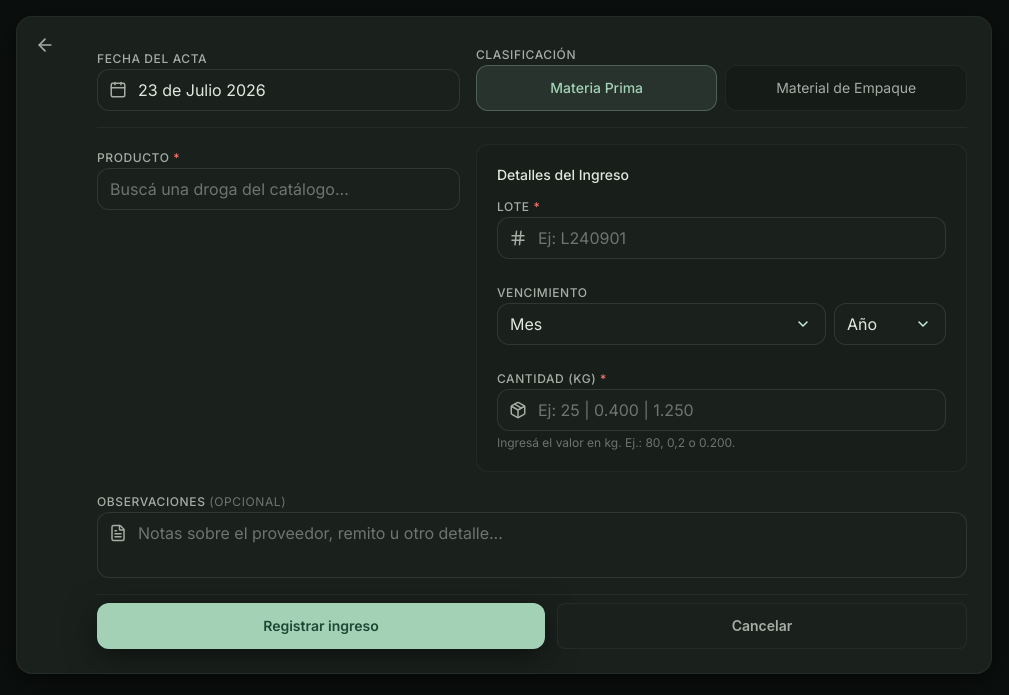
Test: ActaNuevaPage › lets material auxiliar enter by quantity without market or lote fields
Step 1. Click the button "Material de Empaque" → coordinates (846, 88), box left=726, top=65, right=967, bottom=111
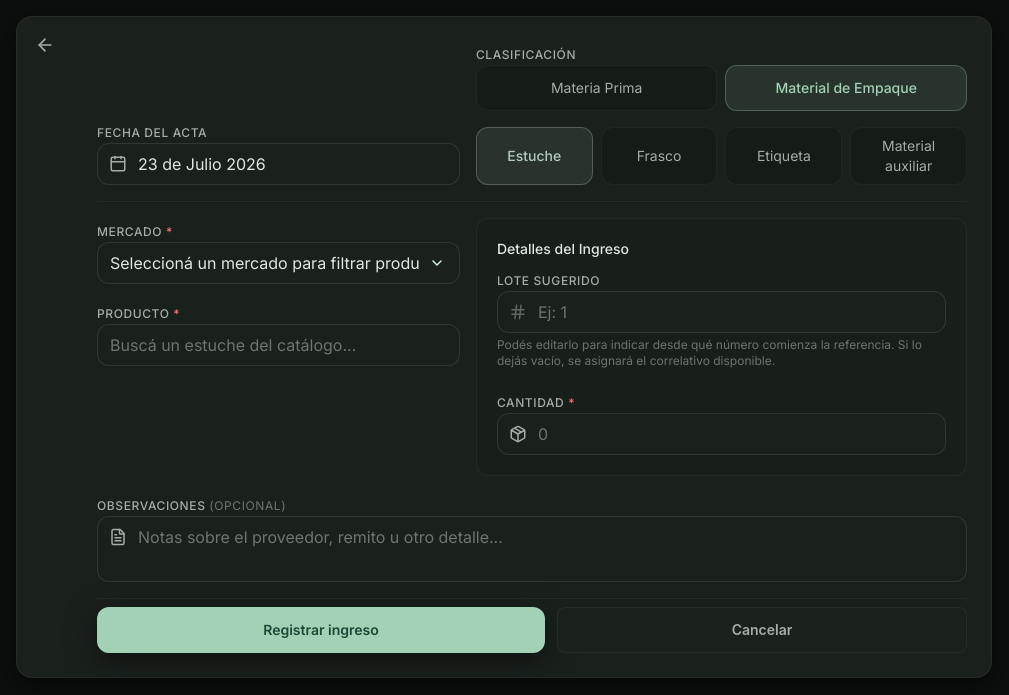
Step 2. Click the button "Material auxiliar" → coordinates (909, 156), box left=850, top=127, right=967, bottom=185
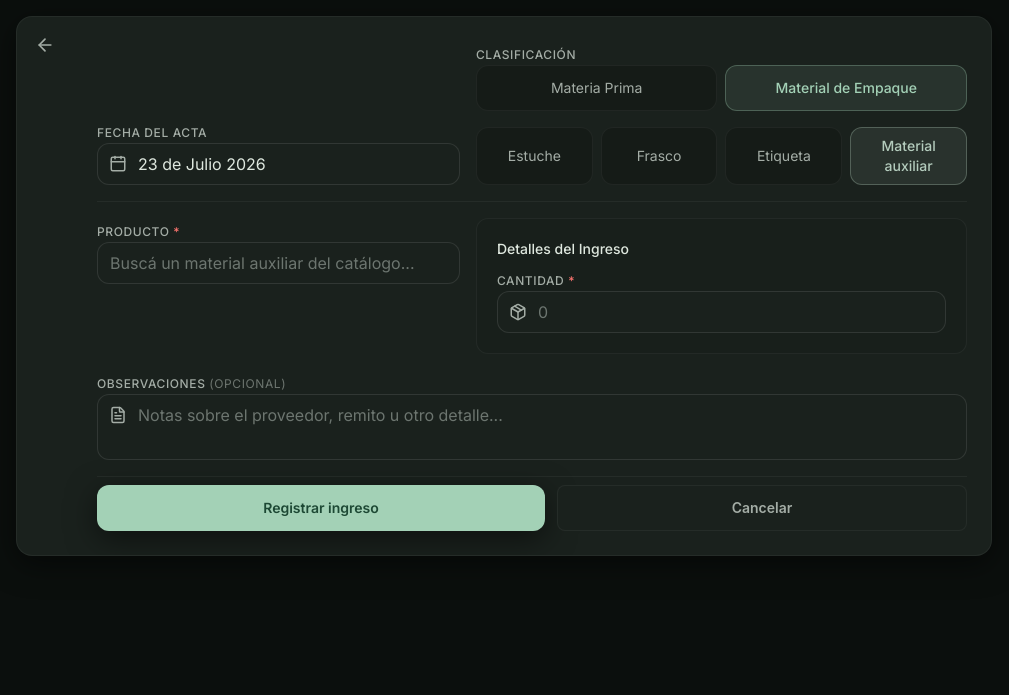
Expected: the dropdown with placeholder "Buscá un material auxiliar del catálogo..." is shown, left=97, top=242, right=460, bottom=284
Expected: the label labelled "Mercado *" is gone
Expected: the label labelled "Lote sugerido" is gone
